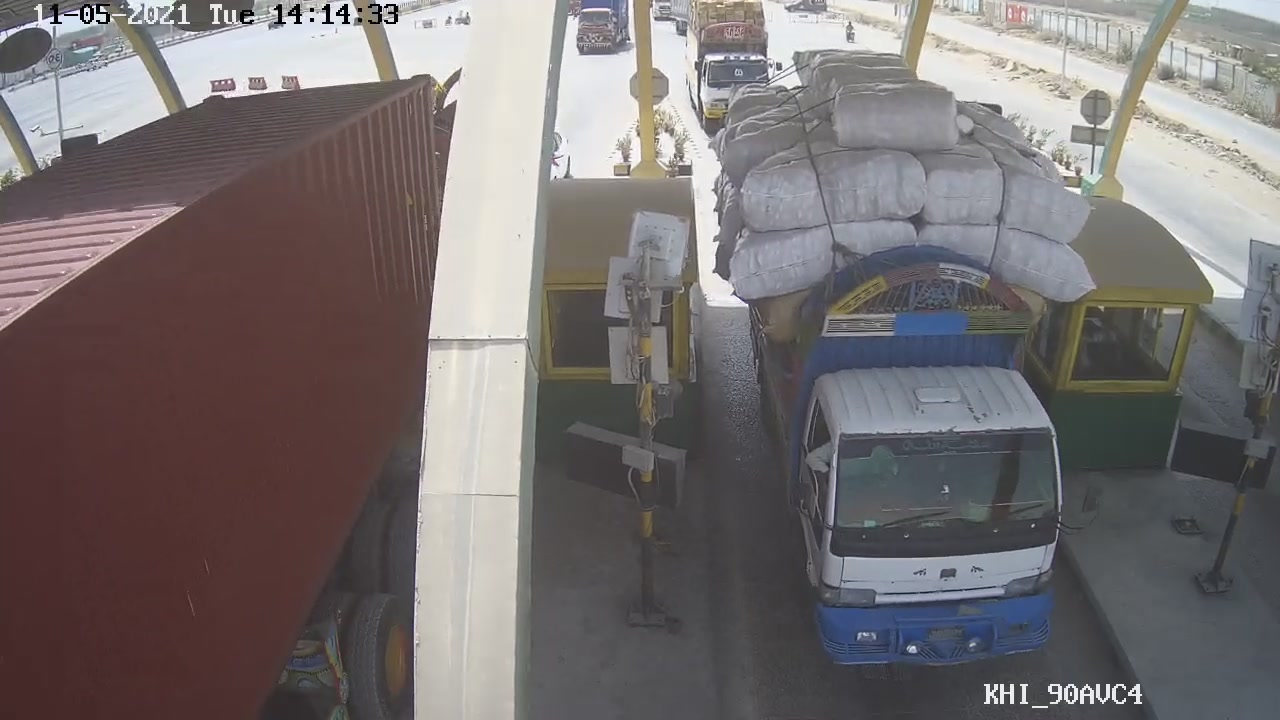F5: (719, 82, 1084, 691)
